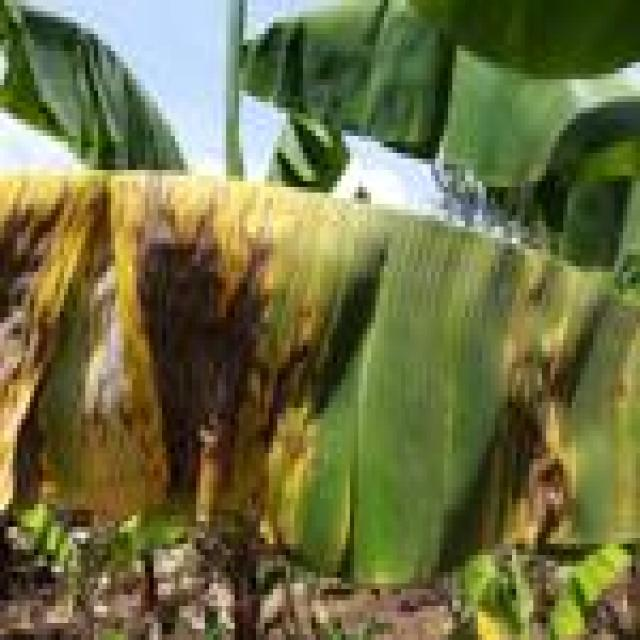Early_rust: (0, 155, 640, 582)
